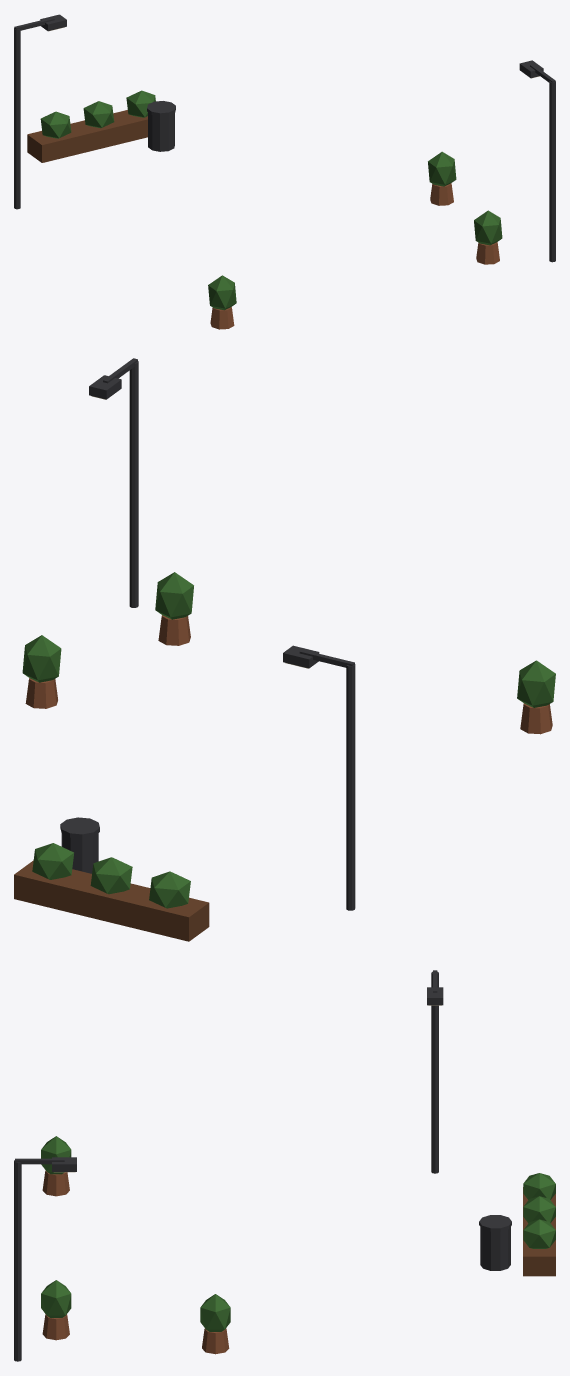
Rendered from barbier_props_b.glb.
The picture shows the model from 3 angles, top to bottom: view 1: azimuth 30°, elevation 25°; view 2: azimuth 150°, elevation 25°; view 3: azimuth 270°, elevation 25°; orthographic projection. The views are drawn at different scales.
Parts seen in each view (by area): view 1: barbier_props_b; view 2: barbier_props_b; view 3: barbier_props_b.
Part boxes in pixels (x1=…): barbier_props_b: x1=14, y1=14, x2=555, y2=329; barbier_props_b: x1=14, y1=358, x2=555, y2=941; barbier_props_b: x1=14, y1=970, x2=555, y2=1361.
Size of the model in its own units: 8.32 by 4.03 by 9.87.
